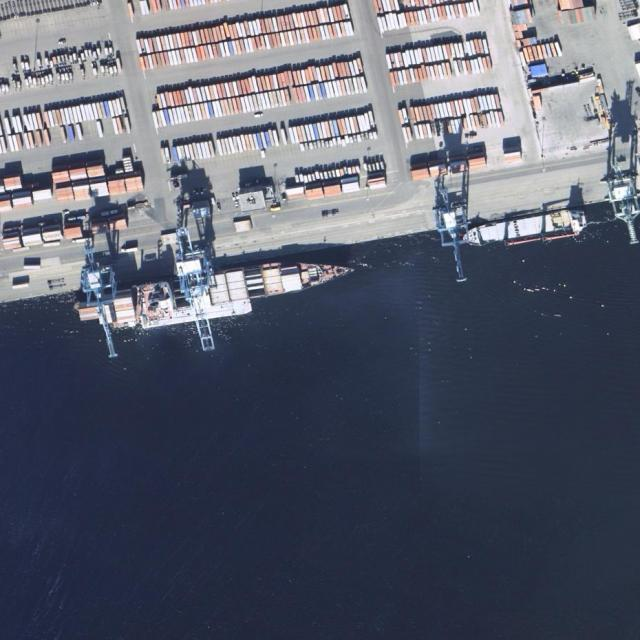Cargo: (460, 206, 588, 252)
Container Ship: (72, 248, 359, 339)
